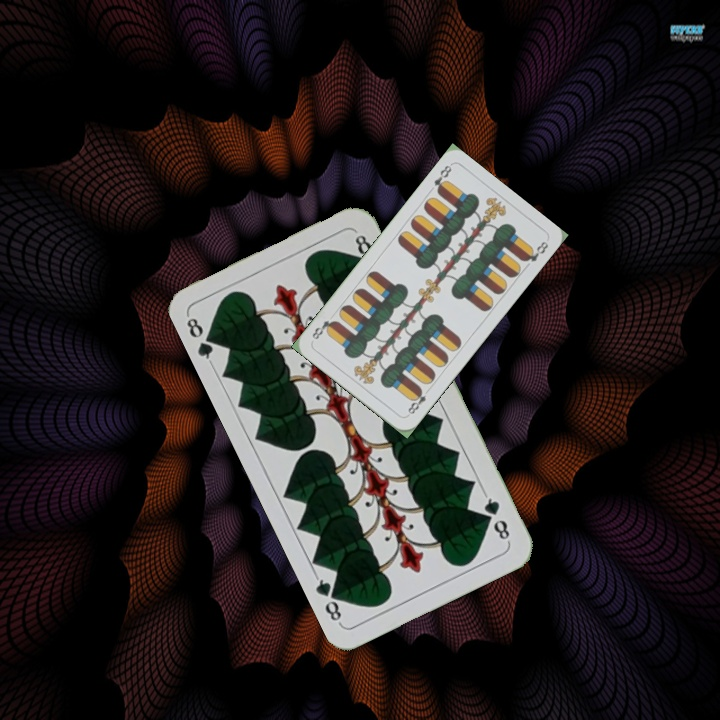E8: (403, 384, 433, 419), (430, 161, 454, 196)
G8: (180, 312, 221, 367), (479, 490, 513, 545)
